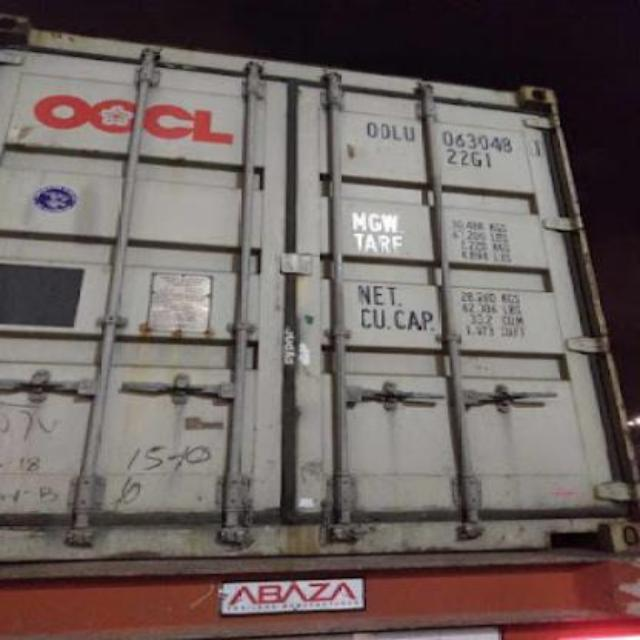0: (478, 127, 490, 151), (442, 122, 452, 148)
1: (530, 136, 546, 158)
3: (466, 125, 476, 152)
4: (488, 128, 502, 154)
6: (454, 124, 466, 148)
8: (501, 131, 514, 155)
L: (391, 118, 404, 144)
O: (364, 115, 378, 141), (378, 114, 390, 142)
U: (404, 116, 418, 146)
